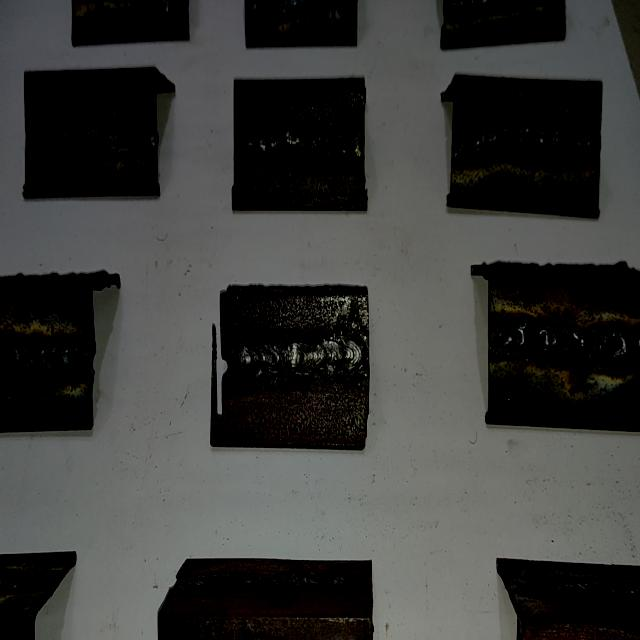Bad Weld: (488, 323, 636, 364), (0, 339, 94, 382), (238, 130, 365, 160)
Defect: (492, 328, 637, 361), (0, 346, 96, 378), (236, 134, 363, 158)
Good Weld: (454, 120, 596, 163), (226, 335, 362, 374), (27, 125, 154, 155)
